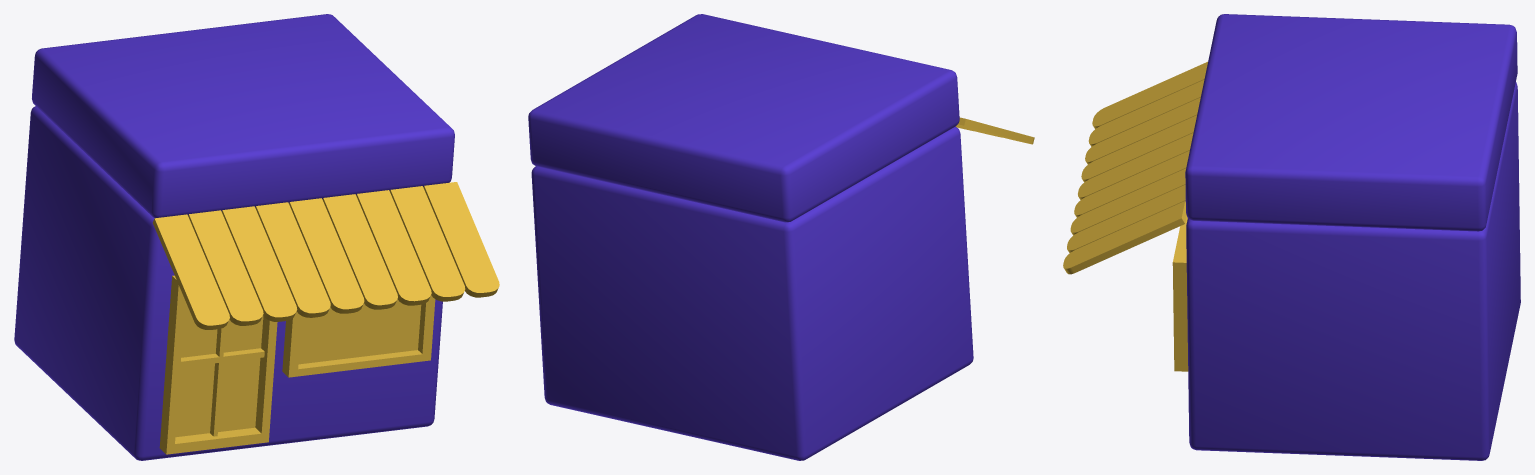
File: store-building-3d-icon-1413606112952.glb
The picture shows the model from 3 angles, left to right: view 1: azimuth 30°, elevation 25°; view 2: azimuth 150°, elevation 25°; view 3: azimuth 270°, elevation 25°; orthographic projection. The views are drawn at different scales.
Parts seen in each view (by area): view 1: Roof 1, Building, Roof 2, Door, Window; view 2: Building, Roof 1, Roof 2; view 3: Building, Roof 1, Roof 2, Window.
Part boxes in pixels (box(x1,y1,x2,y2)): Roof 1: box(32, 14, 454, 218); Building: box(14, 106, 442, 460); Roof 2: box(152, 182, 499, 329); Door: box(159, 275, 277, 454); Window: box(282, 295, 435, 377); Building: box(531, 126, 973, 460); Roof 1: box(528, 14, 959, 222); Roof 2: box(955, 117, 1034, 144); Building: box(1186, 82, 1520, 460); Roof 1: box(1185, 14, 1517, 231); Roof 2: box(1063, 61, 1207, 274); Window: box(1172, 216, 1188, 371).
Size of the model in its own units: 1.7 by 1.57 by 2.08.
